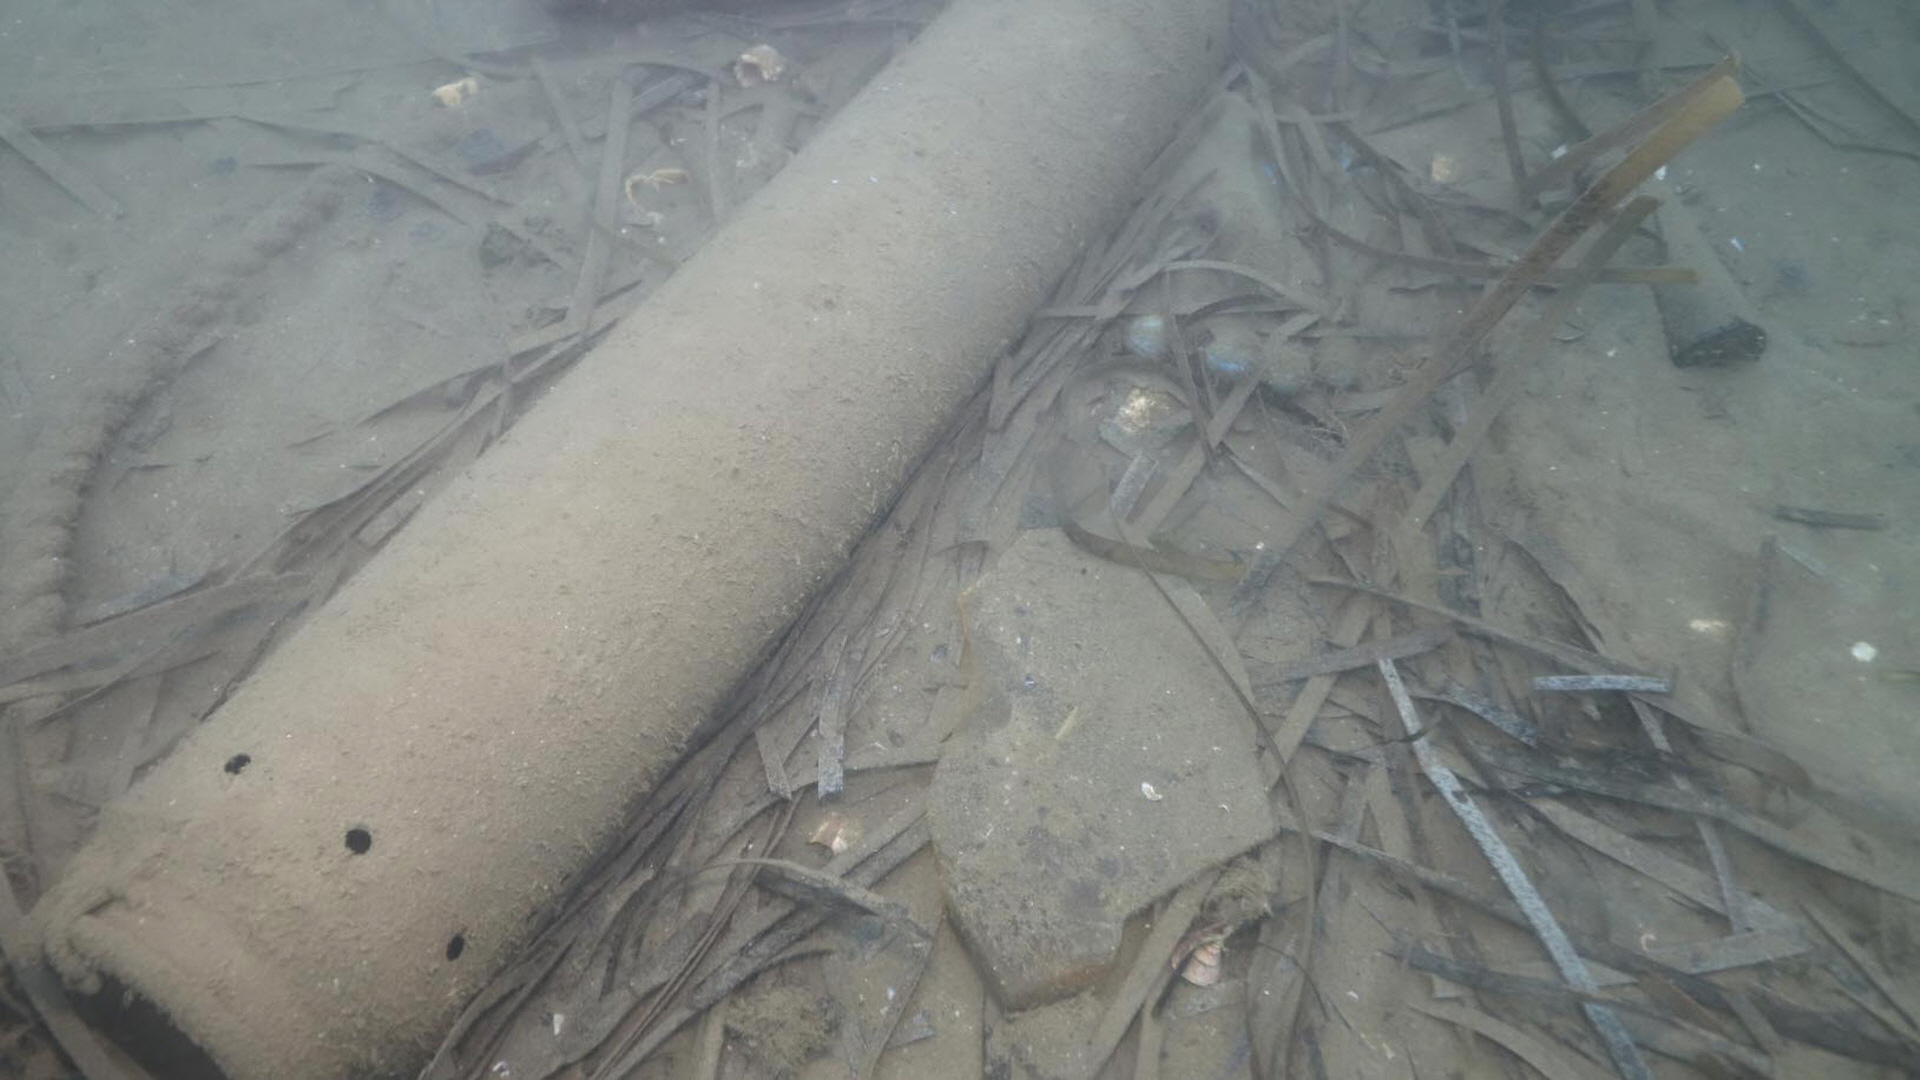eel fish trap: (0, 0, 1232, 1080)
rope: (7, 160, 344, 674)
